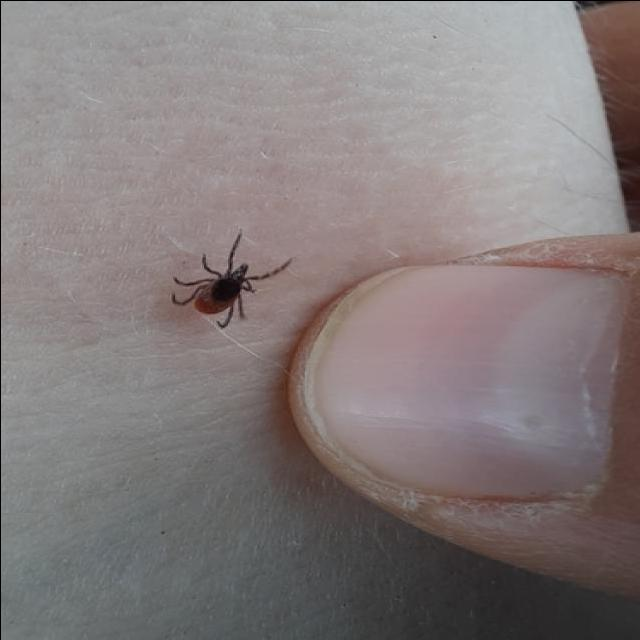Ixodes Ricinus-F: (166, 232, 294, 330)
